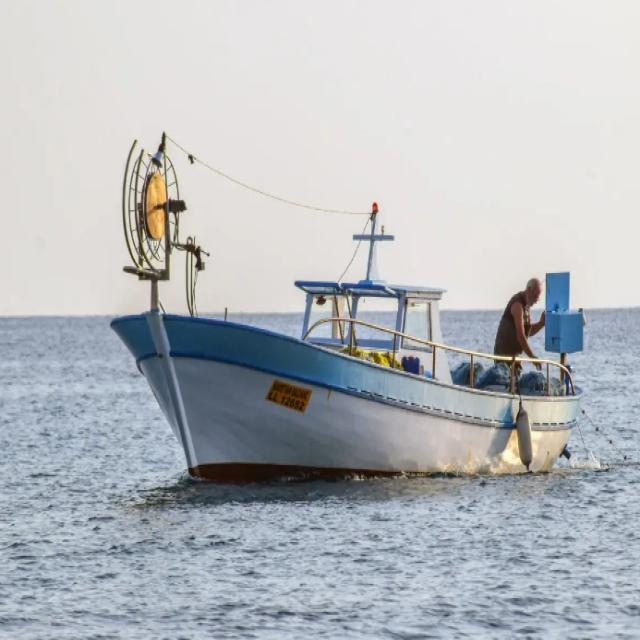fishing boat: (115, 130, 590, 478)
